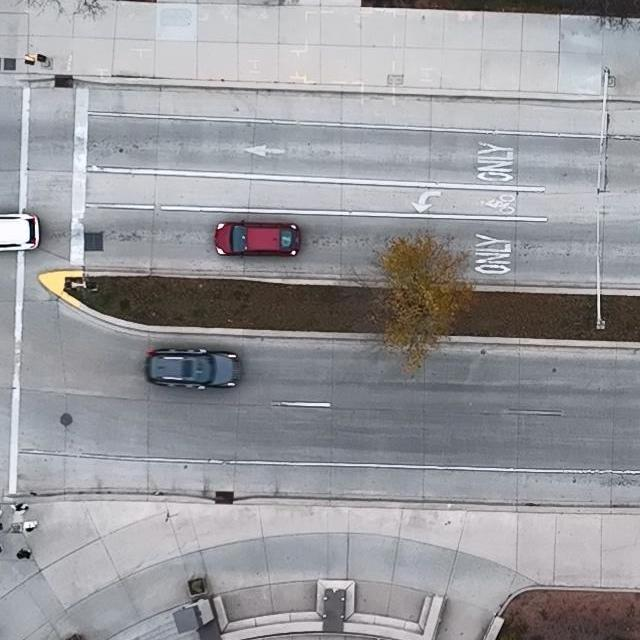car: (145, 346, 242, 391), (214, 218, 302, 258), (0, 213, 41, 253)
